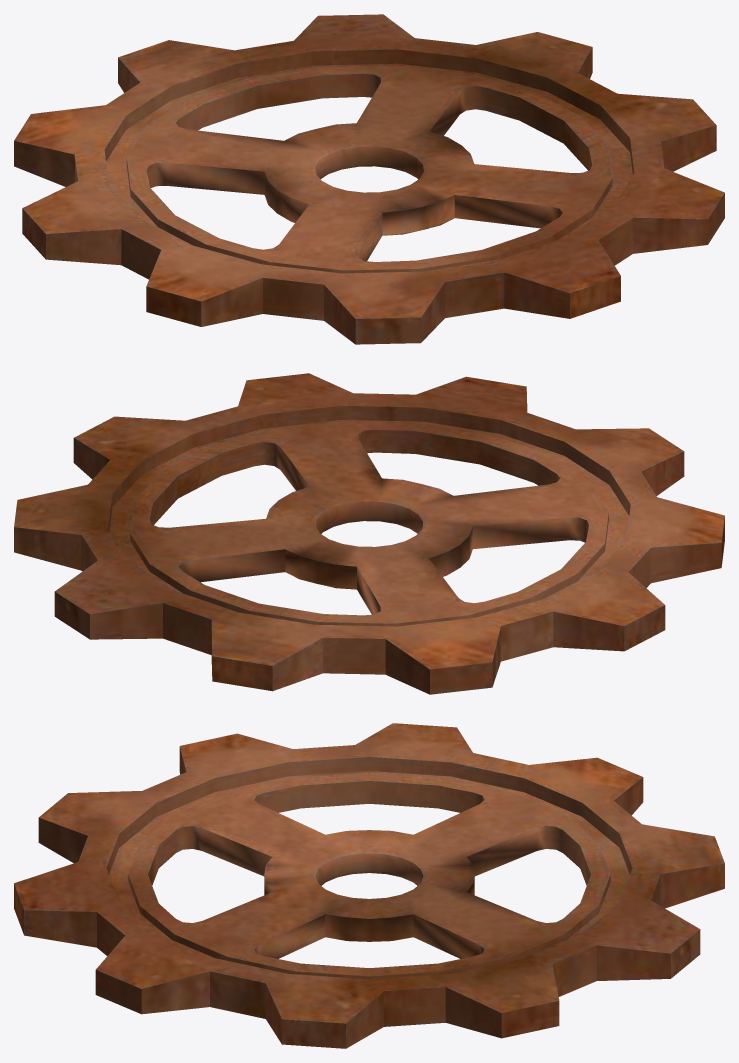
File: steampunk_gear_10.glb
3 renders of one model, top to bottom at view 1: azimuth 30°, elevation 25°; view 2: azimuth 150°, elevation 25°; view 3: azimuth 270°, elevation 25°, orthographic.
Parts seen in each view (by area): view 1: steampunk_gear_10; view 2: steampunk_gear_10; view 3: steampunk_gear_10.
Part boxes in pixels (x1,y1,x2,y2): steampunk_gear_10: [14, 14, 724, 344]; steampunk_gear_10: [14, 373, 724, 694]; steampunk_gear_10: [14, 723, 724, 1048].
Size of what is drawn, in the model's own units: 0.152 by 0.00842 by 0.152.
Materials: 1 (1 with a texture image).
